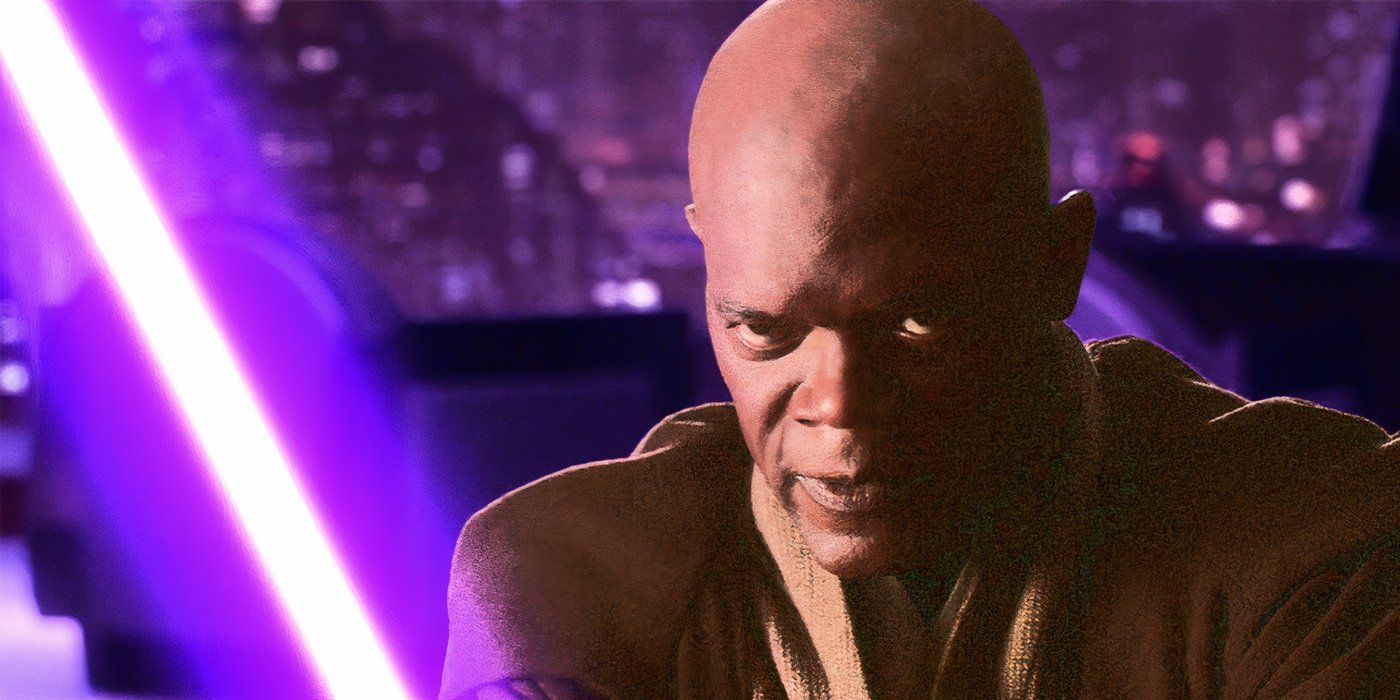lightsaber: (0, 0, 578, 700)
